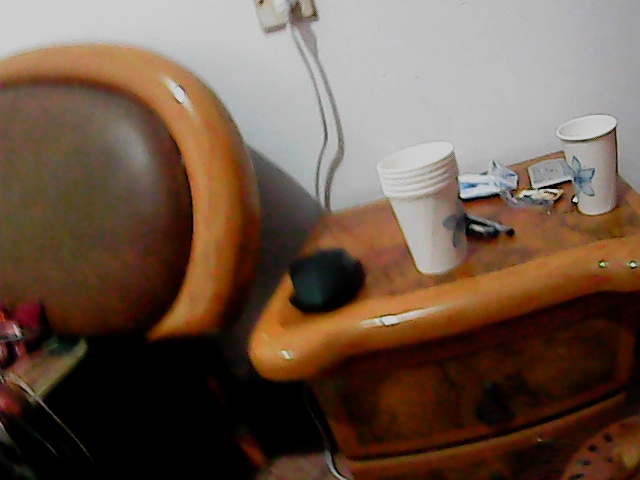cup: (379, 136, 475, 276)
mouse: (283, 245, 368, 314)
